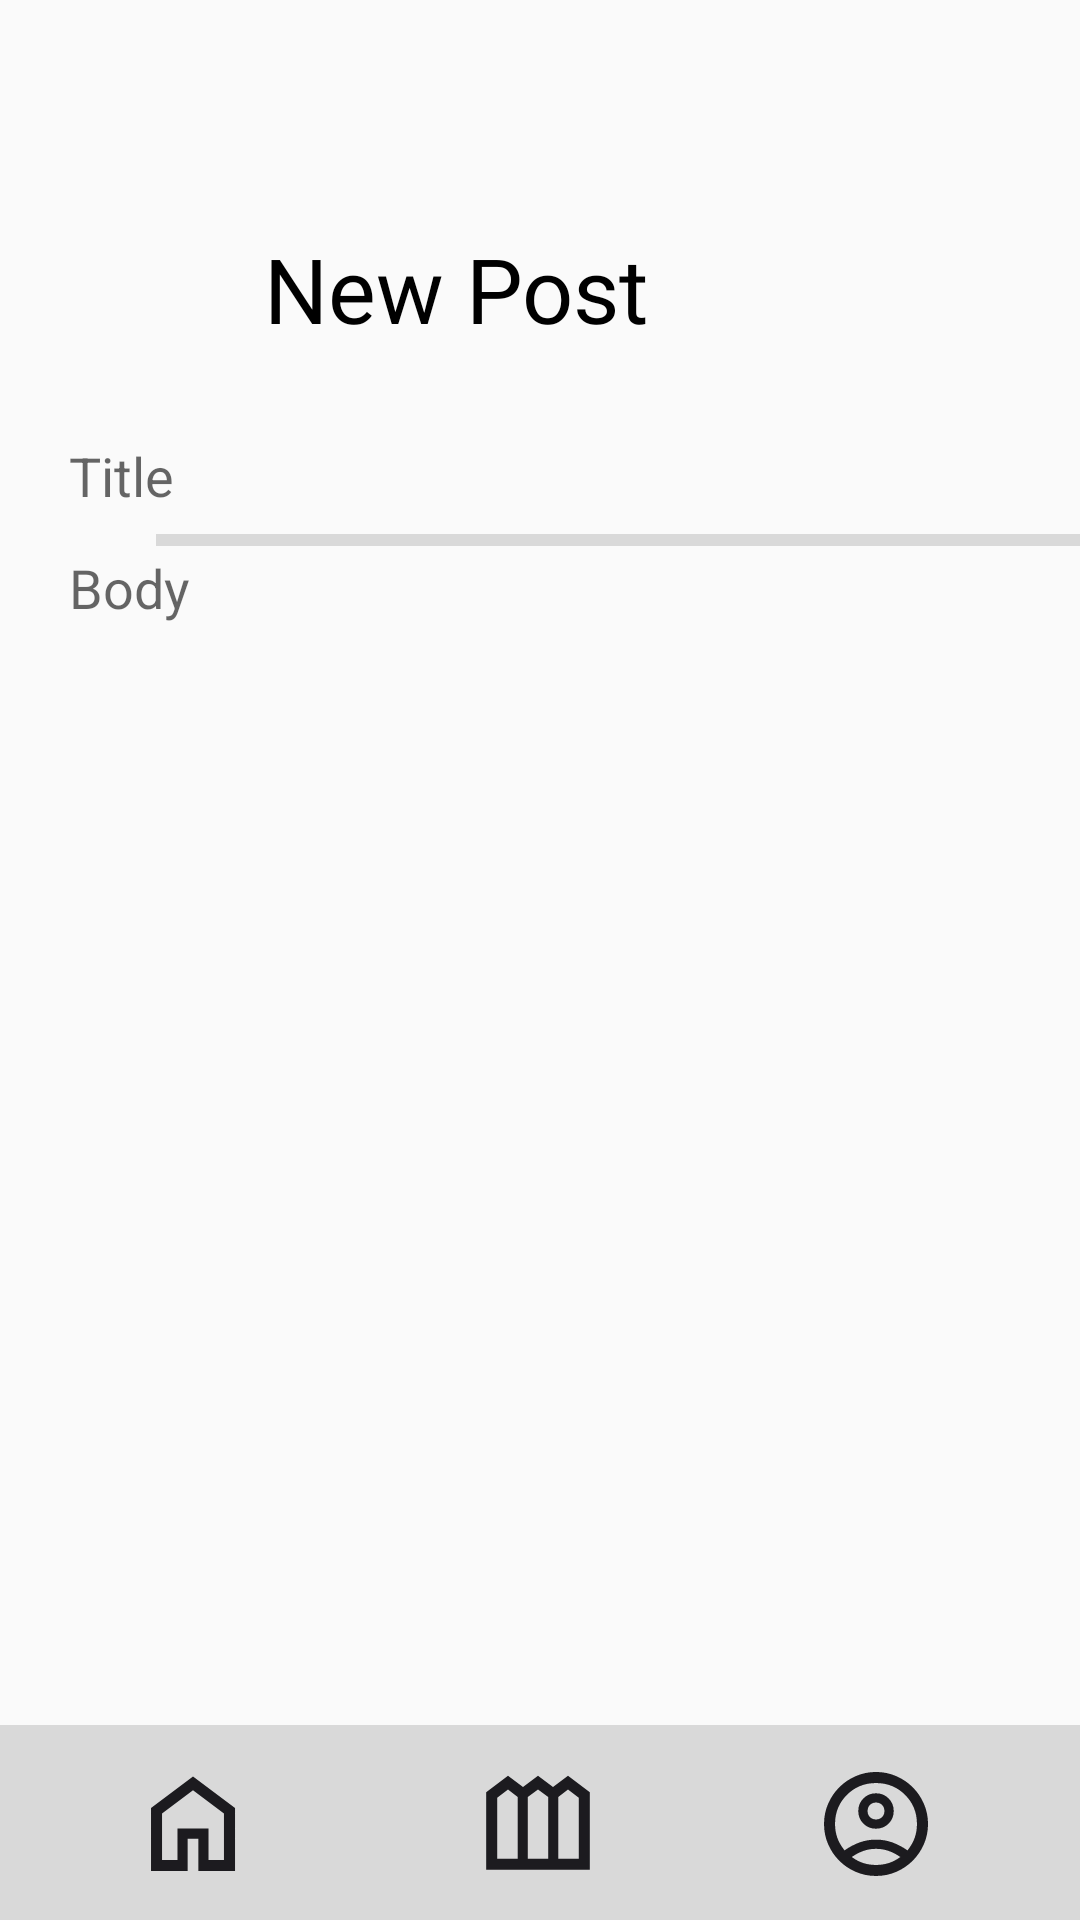

Screen size 1080x1920. Icon name, then its box in pixels as (x1, y1, x2, y2):
home: (151, 1776, 235, 1871)
outdoor garden: (486, 1776, 590, 1870)
